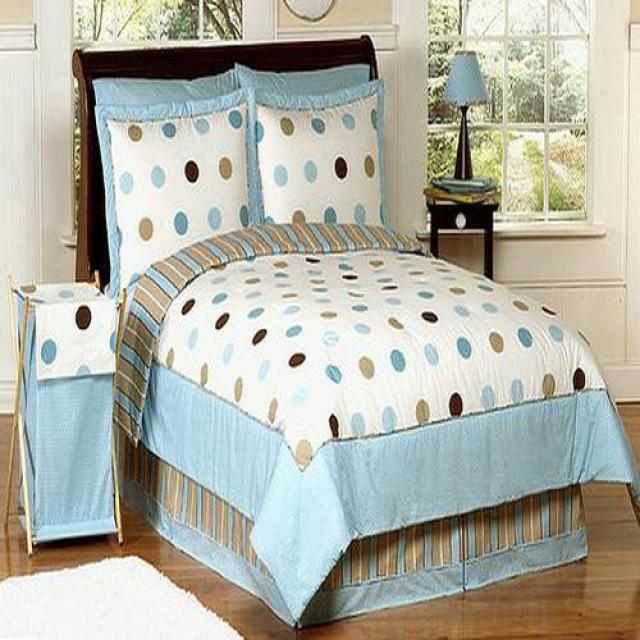bed: (72, 36, 640, 632)
